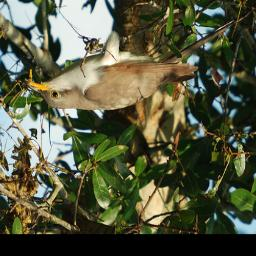Cuckoo: (24, 11, 201, 114)
